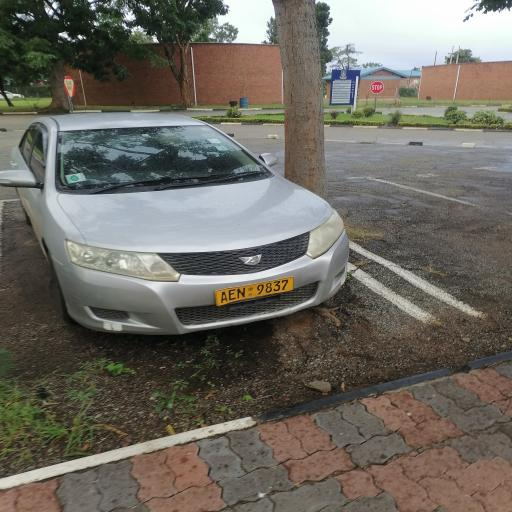number-plates: (217, 276, 290, 308)
